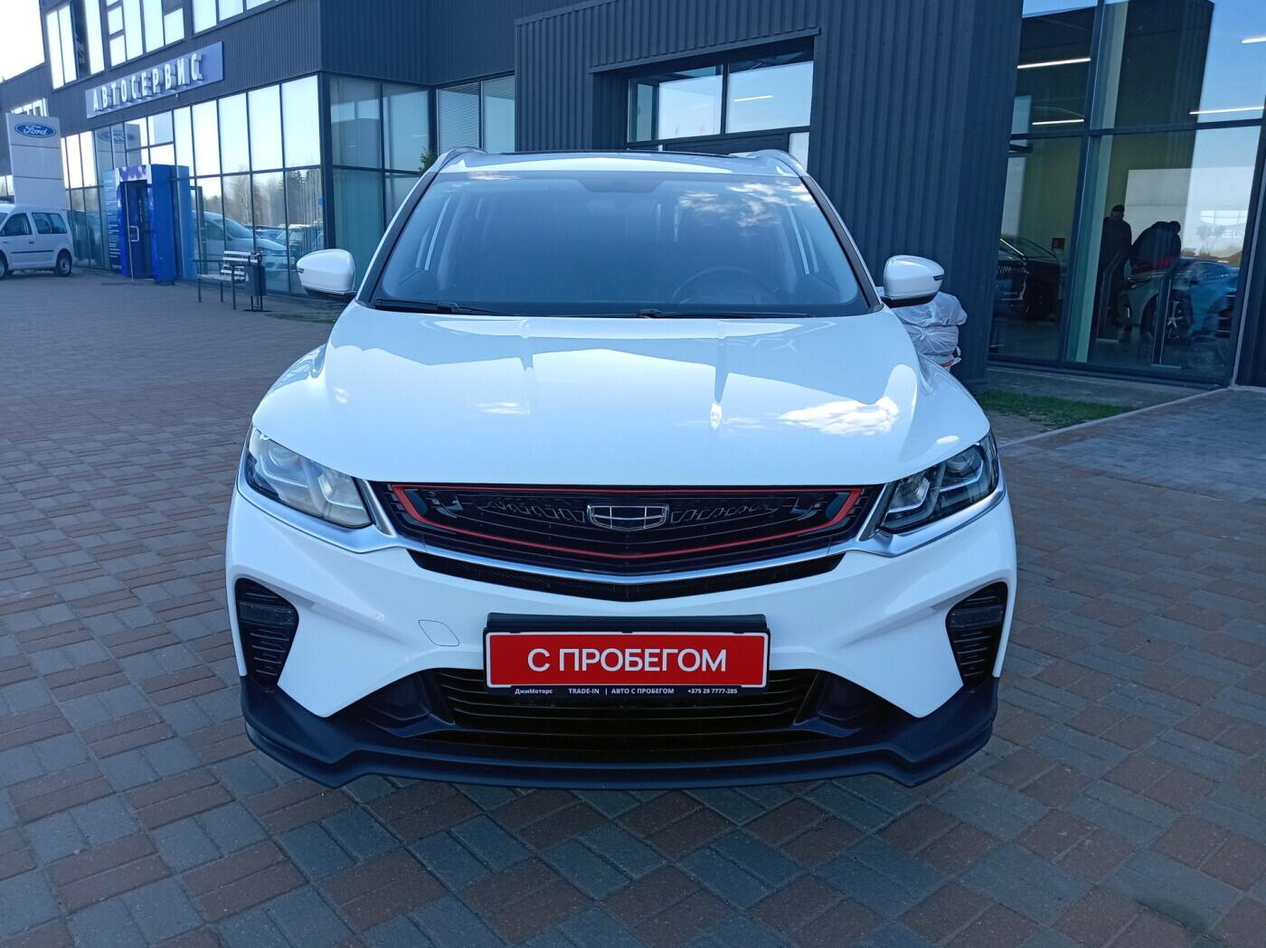Coolray_2019-2023: (222, 146, 1023, 790)
